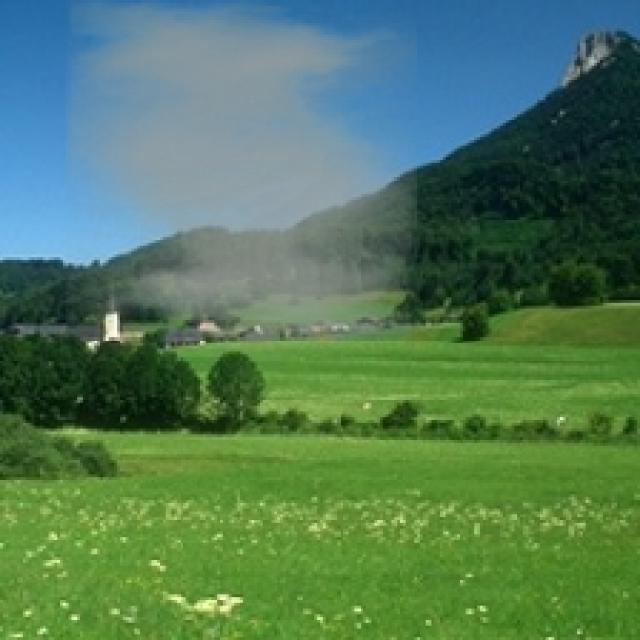smoke: (66, 0, 417, 343)
